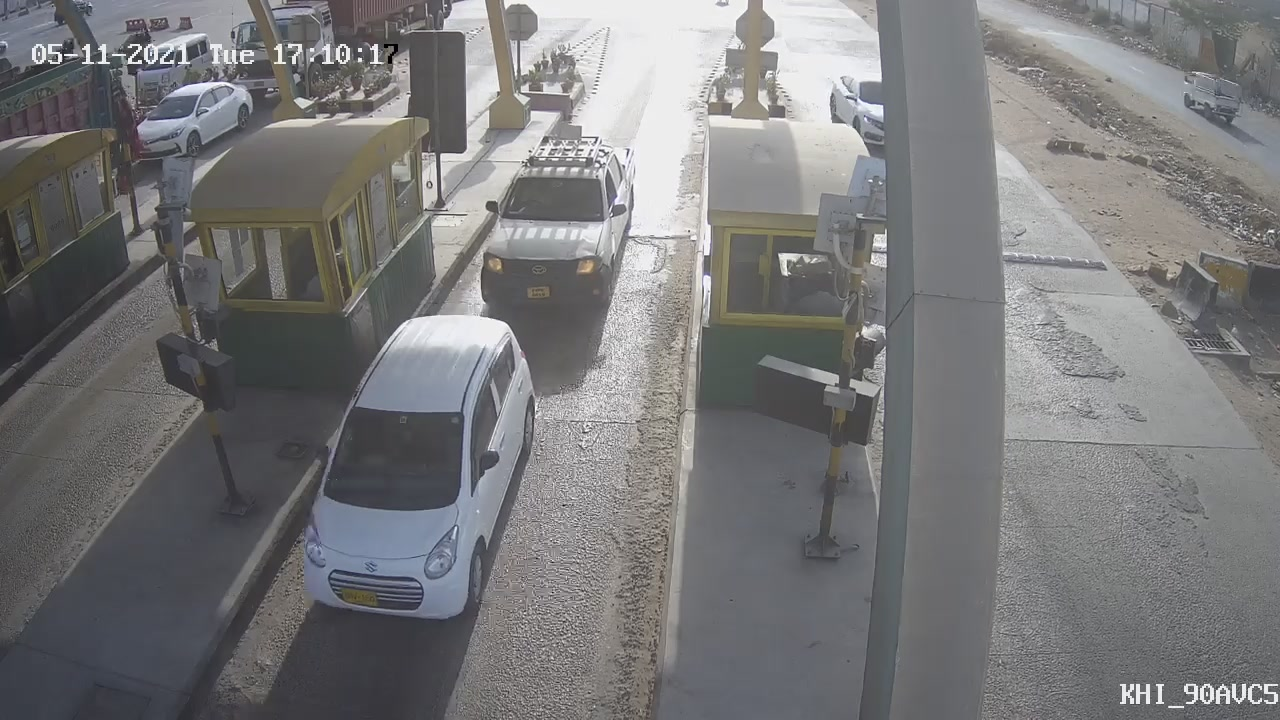F1: (461, 111, 656, 343)
